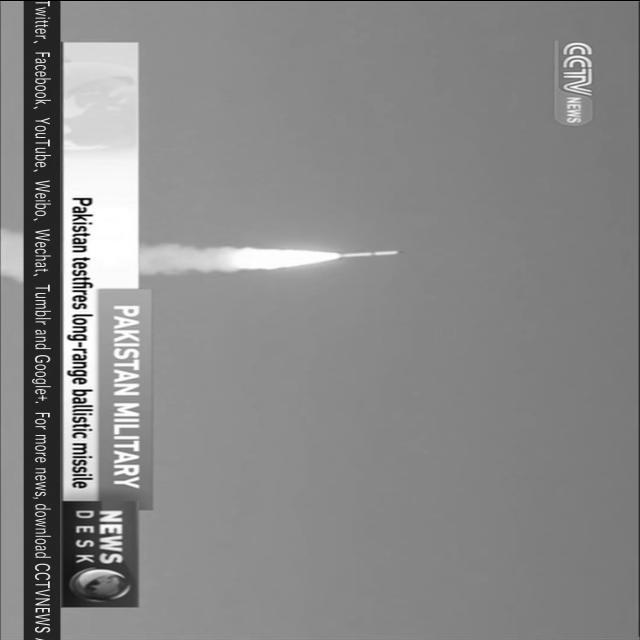missile: (326, 248, 411, 260)
